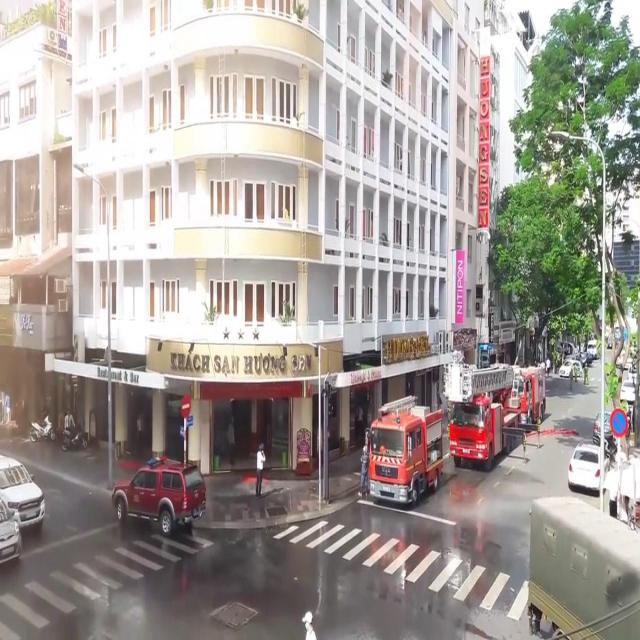car: (111, 455, 205, 537), (0, 454, 44, 526), (568, 439, 600, 493), (0, 498, 22, 562)
truck: (528, 494, 640, 640), (443, 348, 520, 471), (369, 396, 443, 506)
